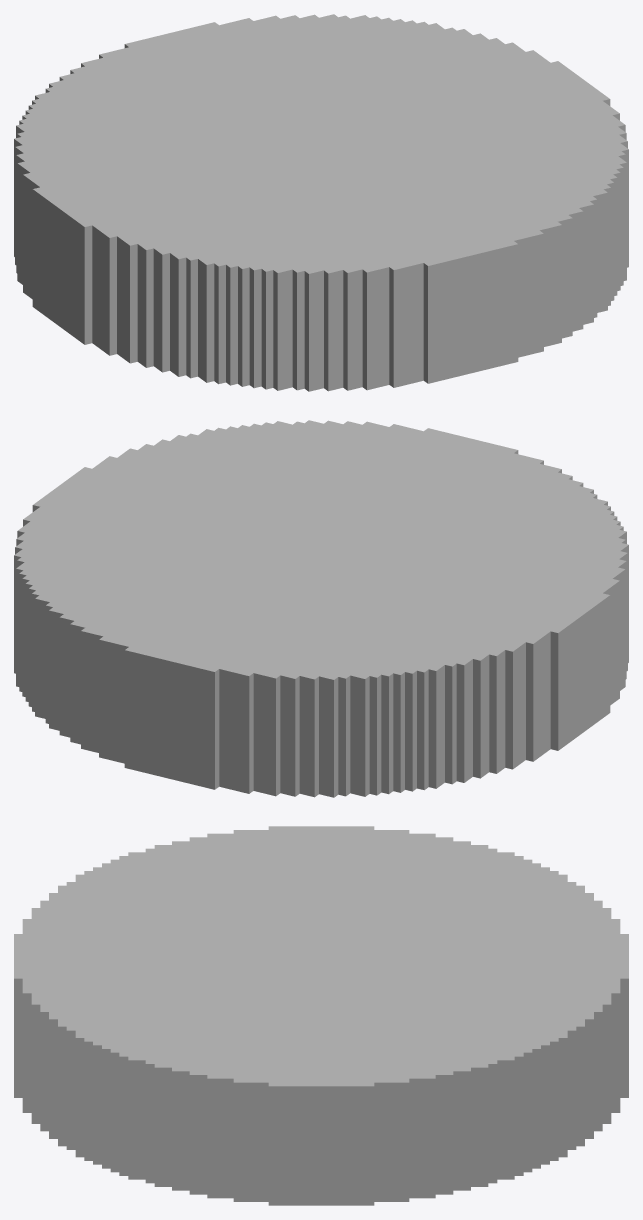
File: flag_full0-2.obj
3 views of the same model, one above another, from view 1: azimuth 30°, elevation 25°; view 2: azimuth 150°, elevation 25°; view 3: azimuth 270°, elevation 25° (orthographic).
Bounding box in the file's own units: 7 × 1.5 × 7.
Materials: 1 (1 with a texture image).
